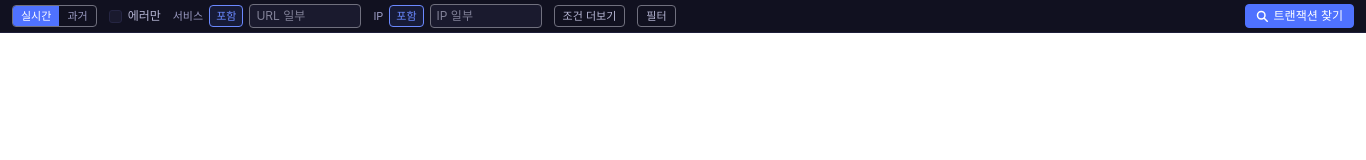
Test: 툴바 서비스 조건 › 빈 칸에서 눌러도 제외로 뒤집힌다
The image size is (1366, 160).
Click the button titled "포함 조건 — 눌러서 제외로" next to "서비스". click: (226, 16)
box: [209,5,243,27]
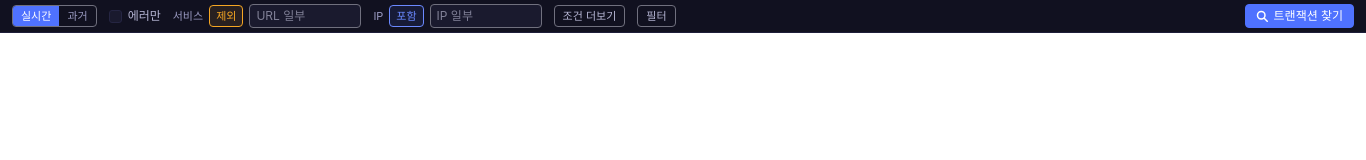
Check: the button titled "제외 조건 — 눌러서 포함으로" is shown, box [209,5,243,27]
